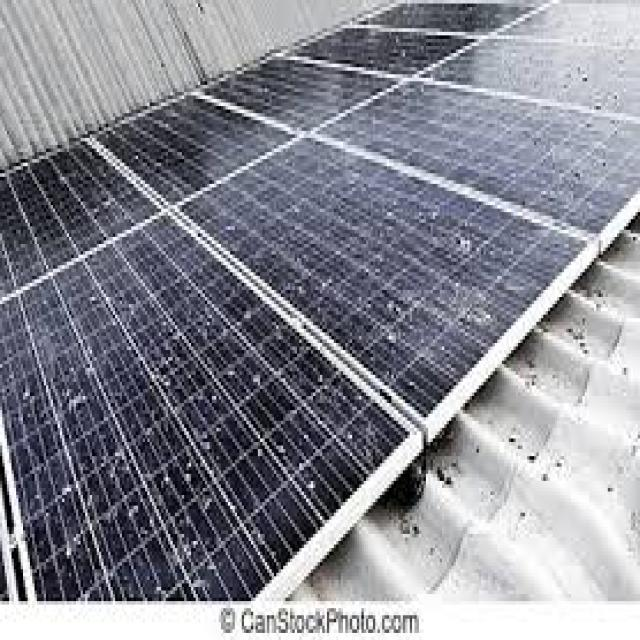dust-solar-panel: (0, 0, 640, 603)
